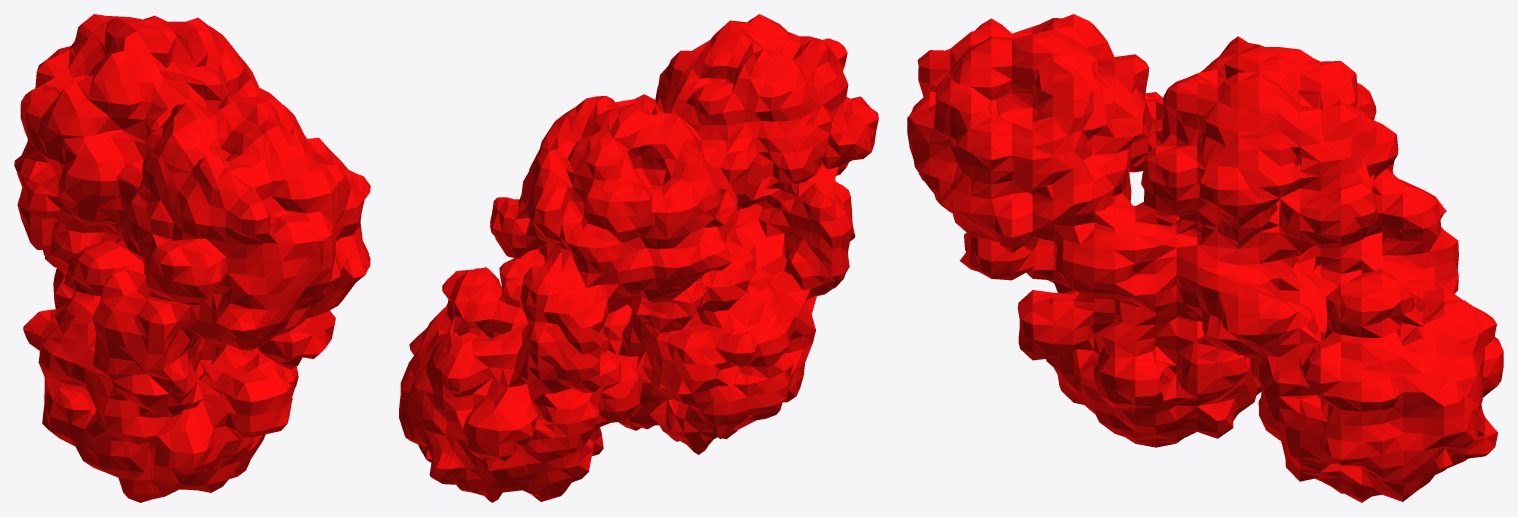
The model's file is atpA_coarse.dae.
The picture shows the model from 3 angles, left to right: view 1: azimuth 30°, elevation 25°; view 2: azimuth 150°, elevation 25°; view 3: azimuth 270°, elevation 25°; orthographic projection. The views are drawn at different scales.
Visible parts, largest first — view 1: atpA; view 2: atpA; view 3: atpA.
Part boxes in pixels (x1=…): atpA: x1=14, y1=14, x2=370, y2=502; atpA: x1=399, y1=14, x2=878, y2=502; atpA: x1=907, y1=14, x2=1503, y2=502.
Size of the model in its own units: 172 by 210 by 271.
